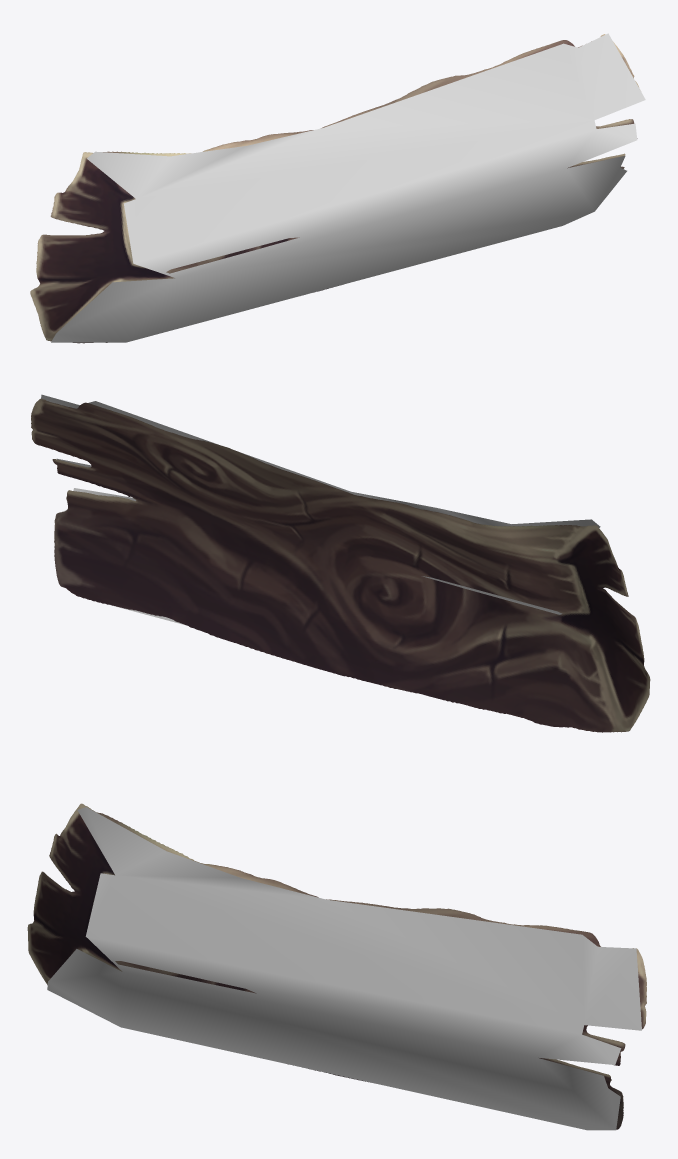
File: Tree Trunk Pass.FBX
3 views of the same model, one above another, from view 1: azimuth 30°, elevation 25°; view 2: azimuth 150°, elevation 25°; view 3: azimuth 330°, elevation 25° (orthographic). The views are drawn at different scales.
Parts seen in each view (by area): view 1: Tree Trunk Pass Mask, Tree Trunk Pass; view 2: Tree Trunk Pass, Tree Trunk Pass Mask; view 3: Tree Trunk Pass Mask, Tree Trunk Pass.
Part boxes in pixels (box(x1,y1,x2,y2)): Tree Trunk Pass Mask: box(51, 33, 645, 342); Tree Trunk Pass: box(30, 34, 639, 343); Tree Trunk Pass: box(31, 398, 650, 732); Tree Trunk Pass Mask: box(41, 394, 600, 625); Tree Trunk Pass Mask: box(47, 807, 641, 1130); Tree Trunk Pass: box(27, 803, 646, 1129).
Bounding box in the file's own units: 712 × 61.99 × 252.
